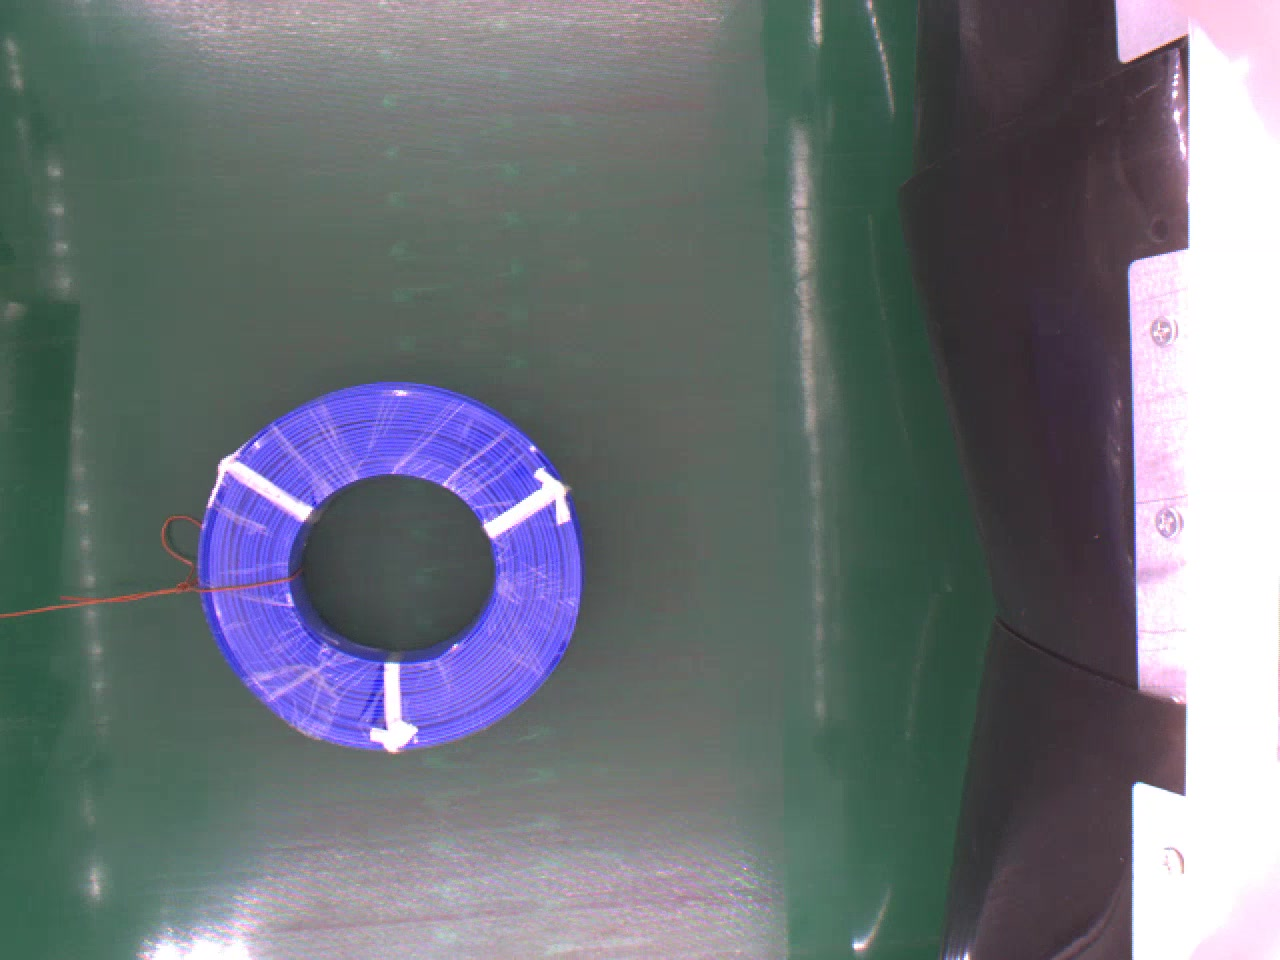blue: (197, 380, 584, 754)
